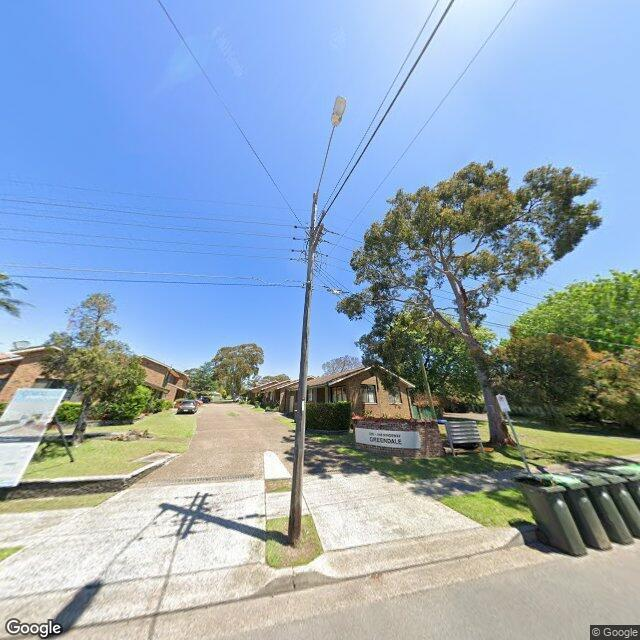crossarm: (310, 222, 324, 253), (315, 210, 325, 233)
streetlight: (314, 95, 346, 206)
timber-pole: (287, 192, 319, 547)
